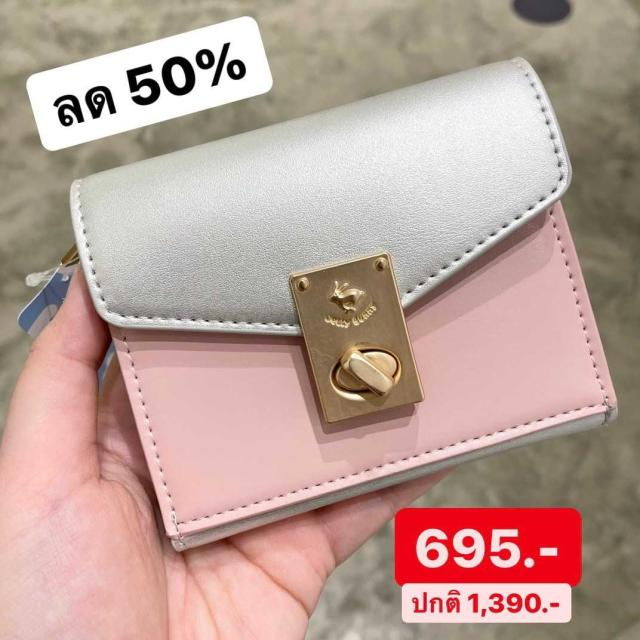handbag: (40, 68, 640, 587)
